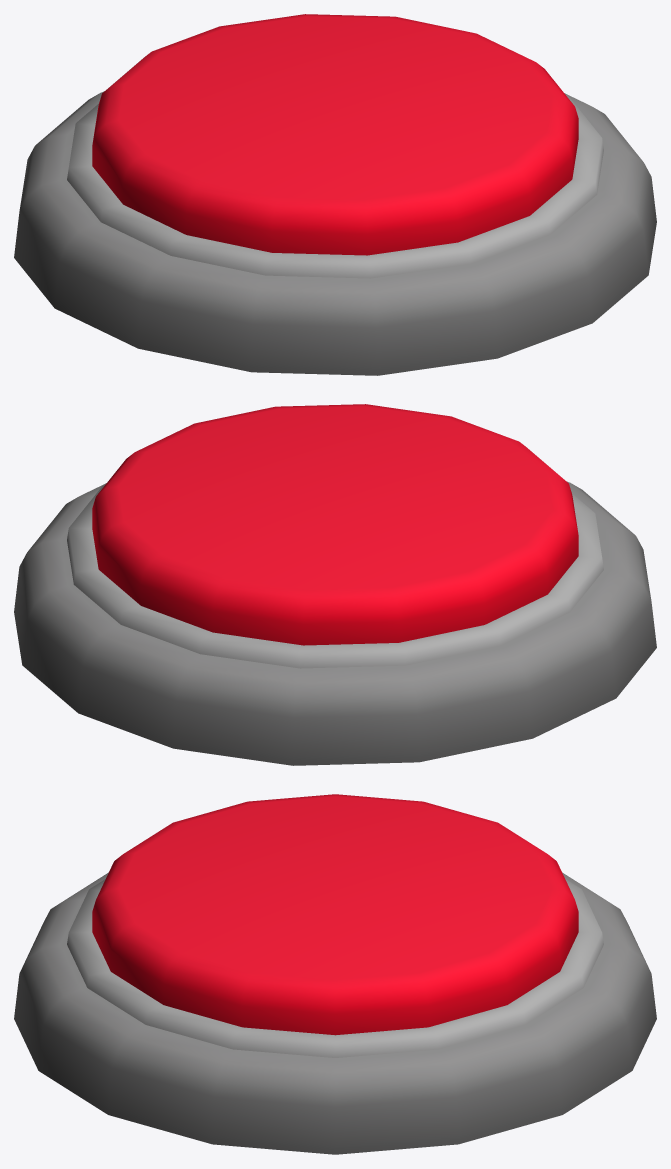
File: Prop_Button_01.fbx
3 renders of one model, top to bottom at view 1: azimuth 30°, elevation 25°; view 2: azimuth 150°, elevation 25°; view 3: azimuth 270°, elevation 25°, orthographic.
Parts seen in each view (by area): view 1: Prop_Button_01_Button, Prop_Button_01; view 2: Prop_Button_01_Button, Prop_Button_01; view 3: Prop_Button_01_Button, Prop_Button_01.
Part boxes in pixels (left/top/right/bottom): Prop_Button_01_Button: left=92, top=14, right=578, bottom=255; Prop_Button_01: left=14, top=91, right=656, bottom=375; Prop_Button_01_Button: left=92, top=404, right=578, bottom=645; Prop_Button_01: left=14, top=481, right=656, bottom=765; Prop_Button_01_Button: left=92, top=794, right=578, bottom=1035; Prop_Button_01: left=14, top=872, right=656, bottom=1154.
Size of the model in its own units: 101 by 22.6 by 101.
